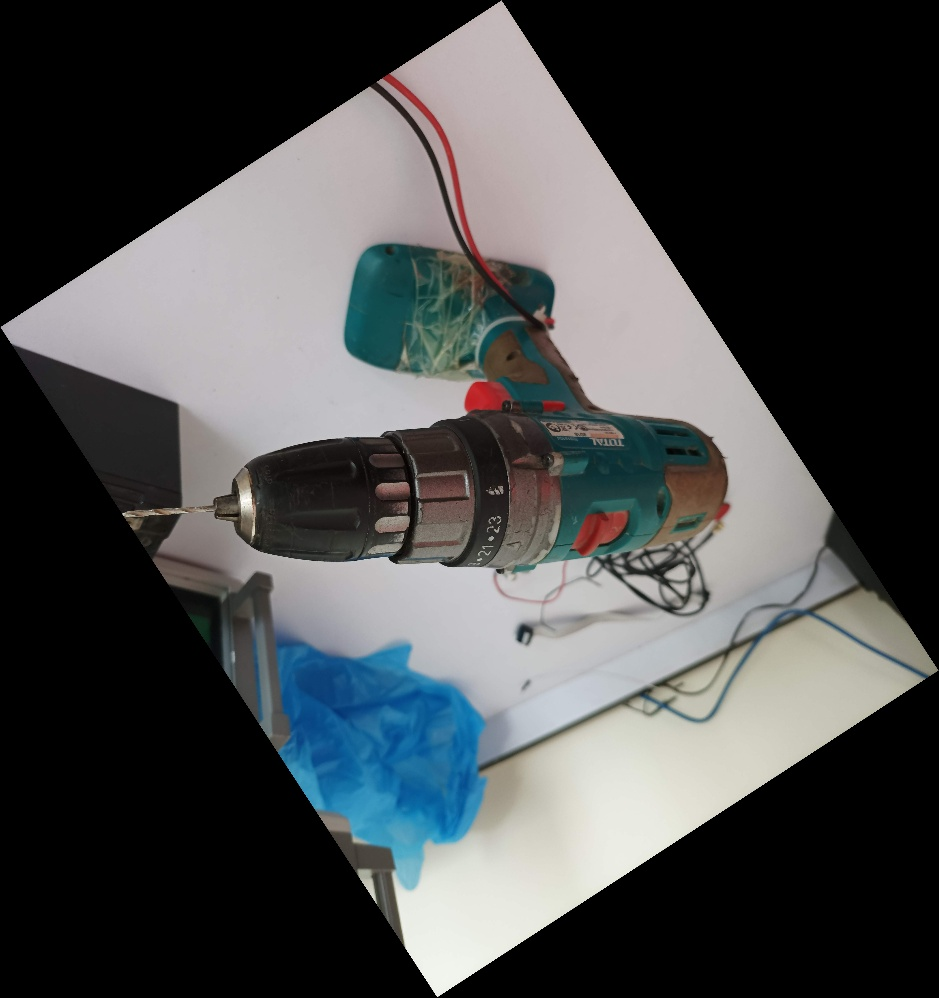driller: (117, 236, 735, 576)
